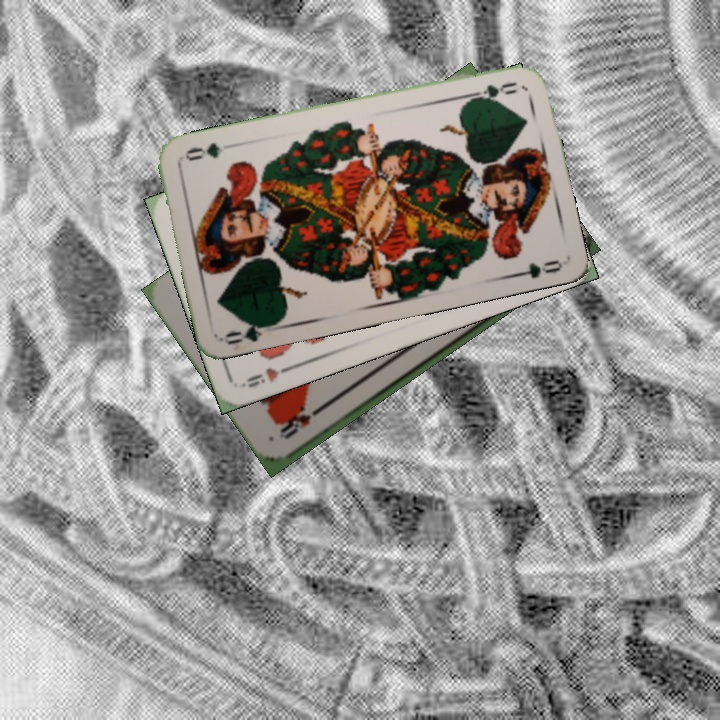GO: (221, 317, 278, 347), (464, 78, 520, 104)
H9: (237, 361, 295, 391)
HO: (278, 402, 326, 442)
